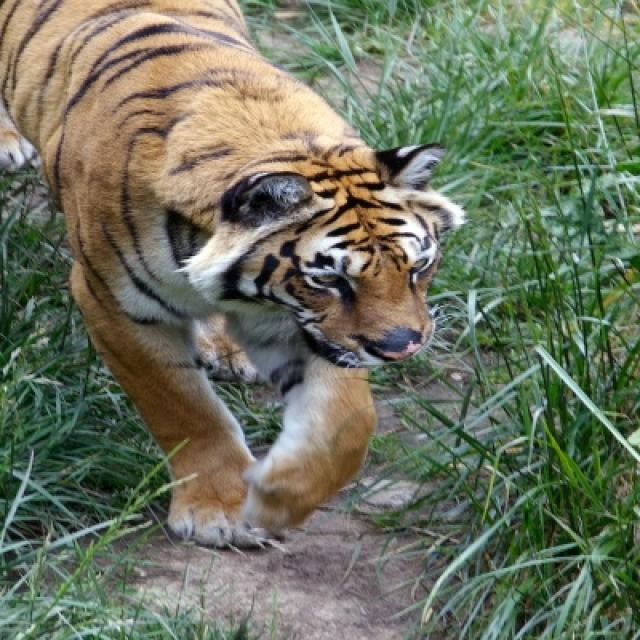Tiger: (0, 0, 464, 544)
